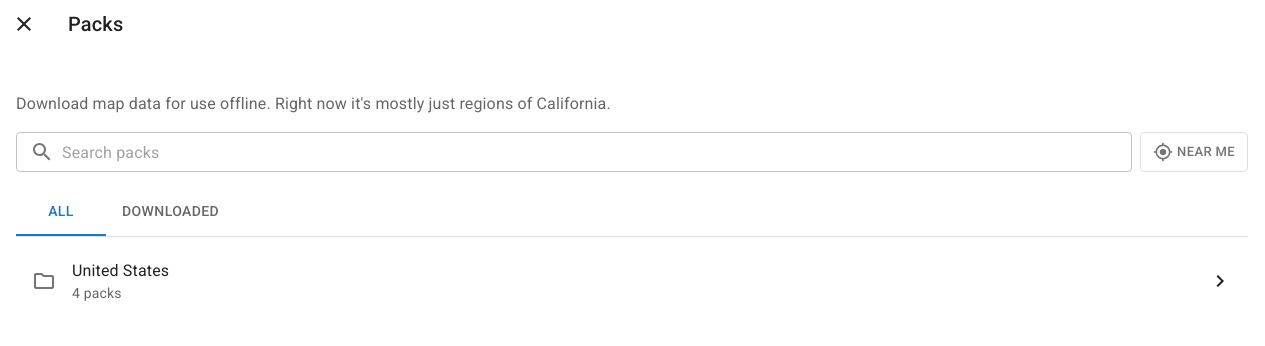
Test: Packs › near me › turns itself off and says why when the location is not available
Expected: the text "United States" is shown, [72,261,169,280]
What coordinates should you click on to do the following:
click the button "Near me"
I would click on:
 (1194, 152)
Its box is [1140,132,1248,172].
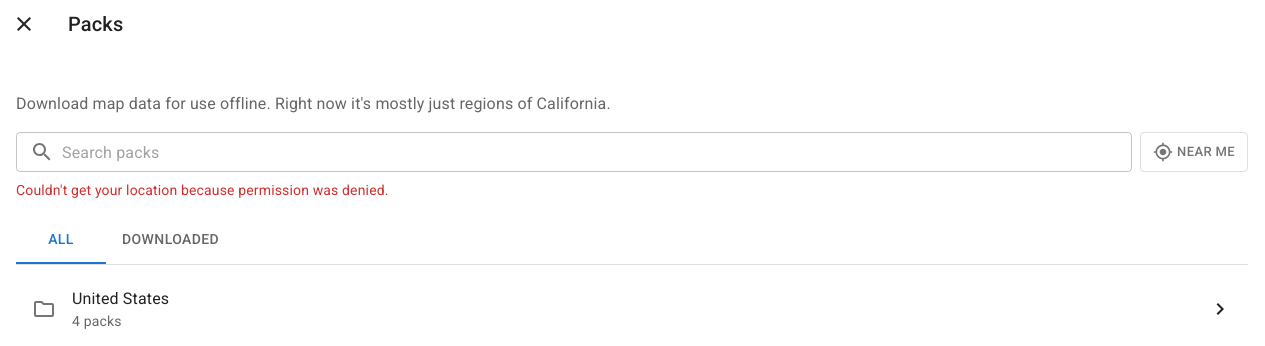
Expected: the text "United States" is shown, [72,289,169,308]
Now the text "Couldn't get your location because permission was denied." is shown, box [16,182,389,198]
